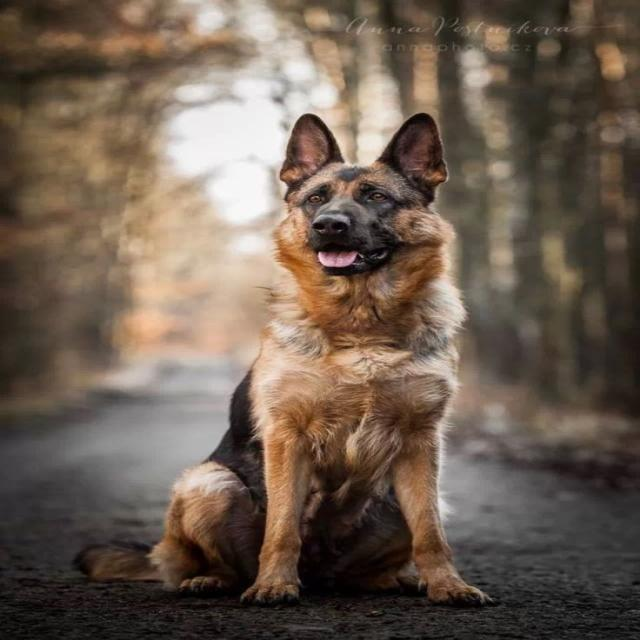dog: (205, 89, 550, 388)
